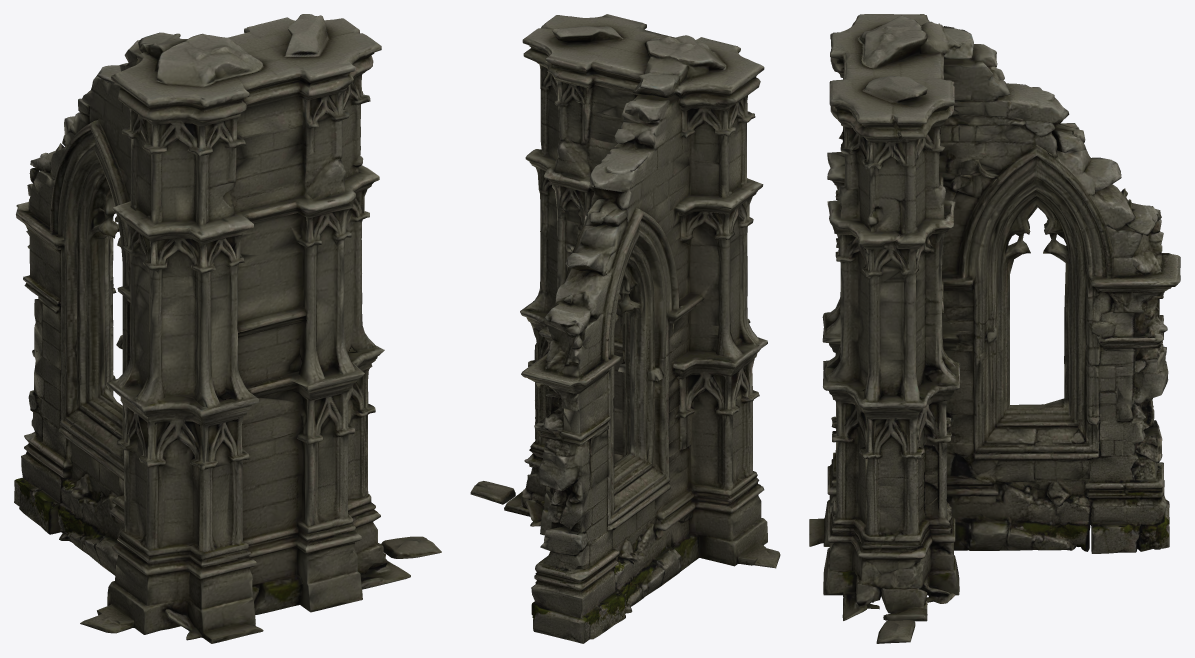
File: CW_HF_GothicButtress.fbx
The picture shows the model from 3 angles, left to right: view 1: azimuth 30°, elevation 25°; view 2: azimuth 150°, elevation 25°; view 3: azimuth 270°, elevation 25°; orthographic projection. The views are drawn at different scales.
Parts seen in each view (by area): view 1: CW_HF_GothicButtress; view 2: CW_HF_GothicButtress; view 3: CW_HF_GothicButtress.
Boxes of the visible parts, x1=… form: CW_HF_GothicButtress: x1=14, y1=14, x2=441, y2=643; CW_HF_GothicButtress: x1=470, y1=14, x2=780, y2=643; CW_HF_GothicButtress: x1=809, y1=14, x2=1180, y2=643.
Size of the model in its own units: 3.25 by 5 by 3.28.
1 material, 1 textured.
